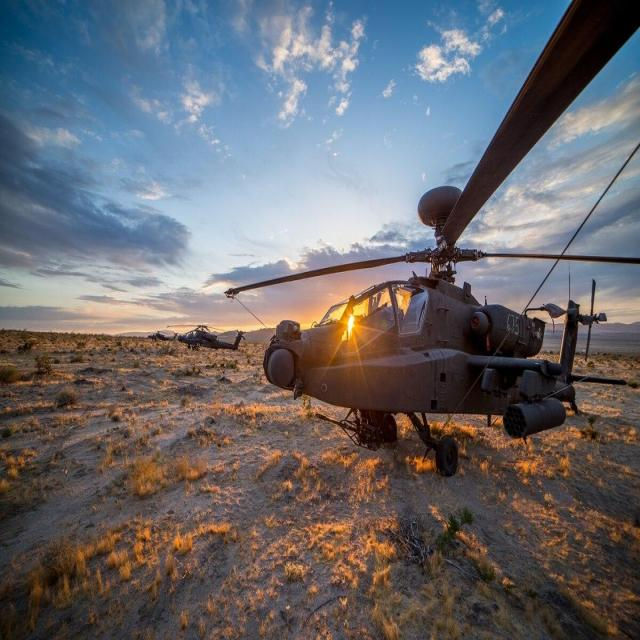MIL_HELO: (231, 0, 640, 466), (166, 316, 252, 362), (141, 316, 177, 351)
